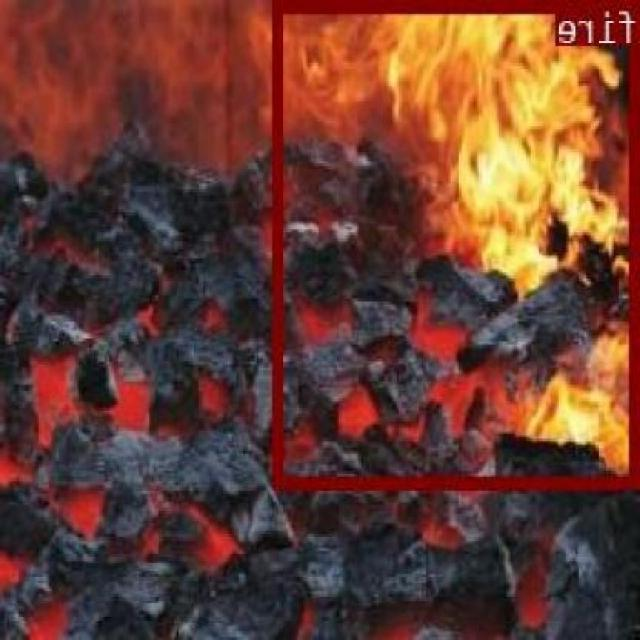Fire: (347, 0, 640, 478)
Smoke: (0, 0, 342, 255)
